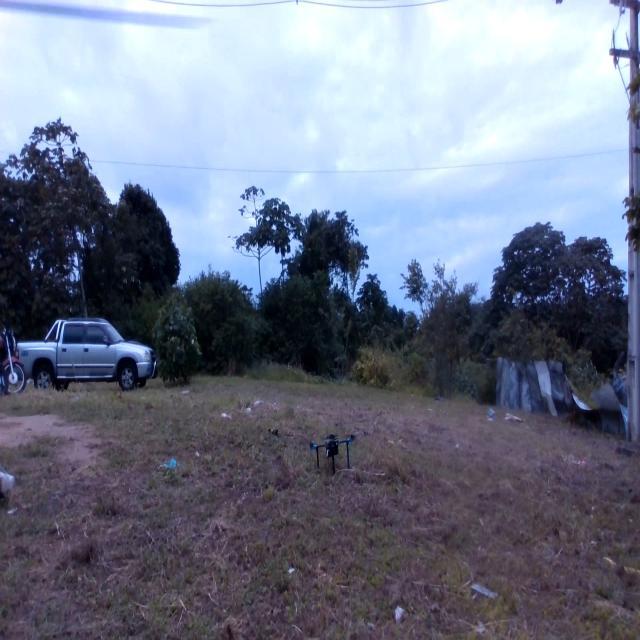-uav-: (297, 418, 369, 484)
